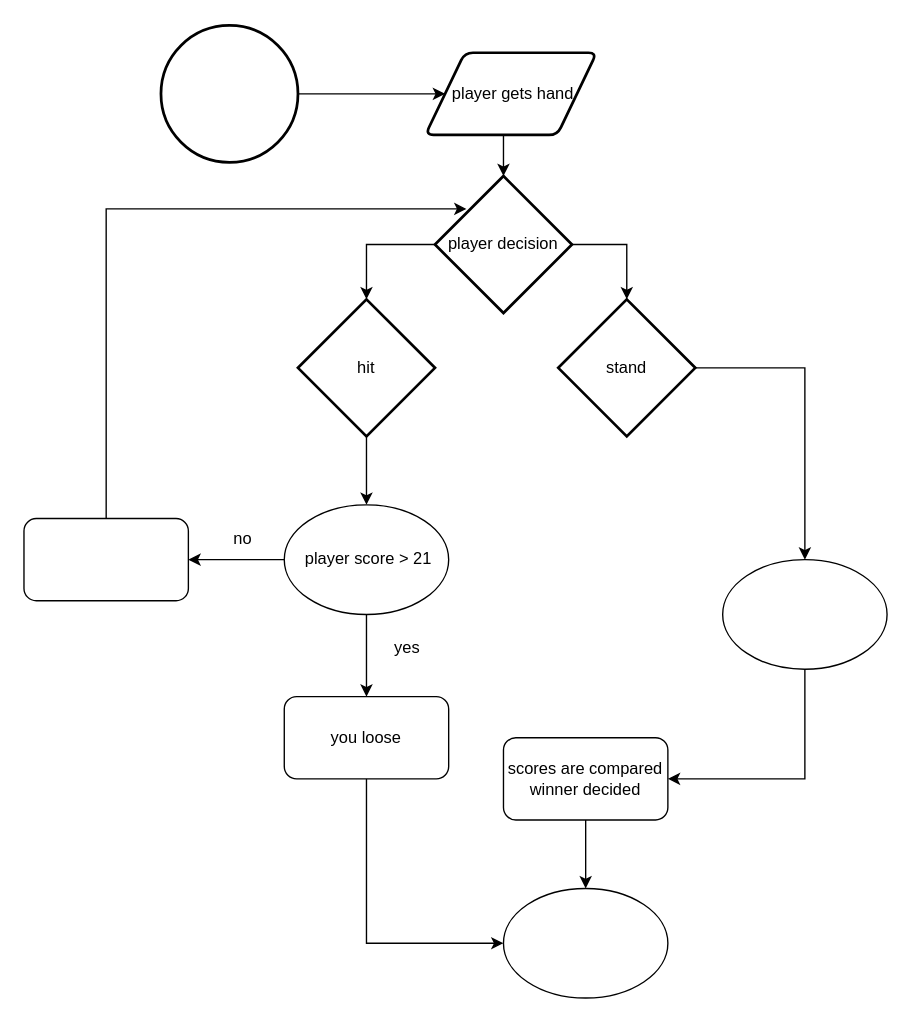
Some shapes in this 911 by 1022 pixel diagram are drawn without their labels. Each missing label, with the centre of its shape:
"dealers turn draws cards until >= 17" goes at (804,613).
"game over winner is shown" goes at (585,942).
"keep playing" goes at (105,559).
"start" goes at (229,93).
